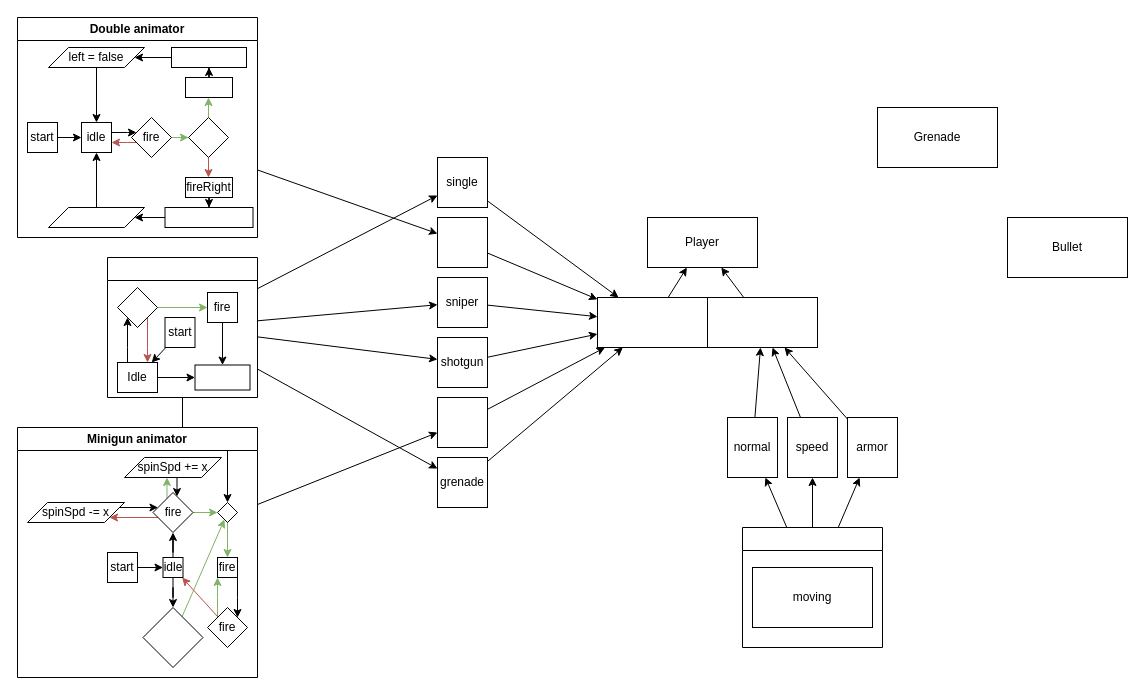
Some shapes in this 1145 by 695 pixel diagram are drawn without their labels. Here are the shapes that lost their labels. From the top down, the box of each, then its label:
(170, 46, 246, 68): cooldownLeft
(184, 76, 232, 98): fireLeft
(188, 116, 228, 158): left
(48, 206, 144, 228): left = true
(164, 206, 253, 228): cooldownRight
(436, 216, 488, 268): double
(116, 286, 158, 328): fire?
(106, 256, 258, 398): Fire animator
(596, 296, 708, 348): Top
(706, 296, 818, 348): Bottom
(194, 364, 250, 390): cooldown
(436, 396, 488, 448): minigun
(742, 526, 882, 648): Bottom animator
(142, 606, 203, 668): spinSpd >= y
